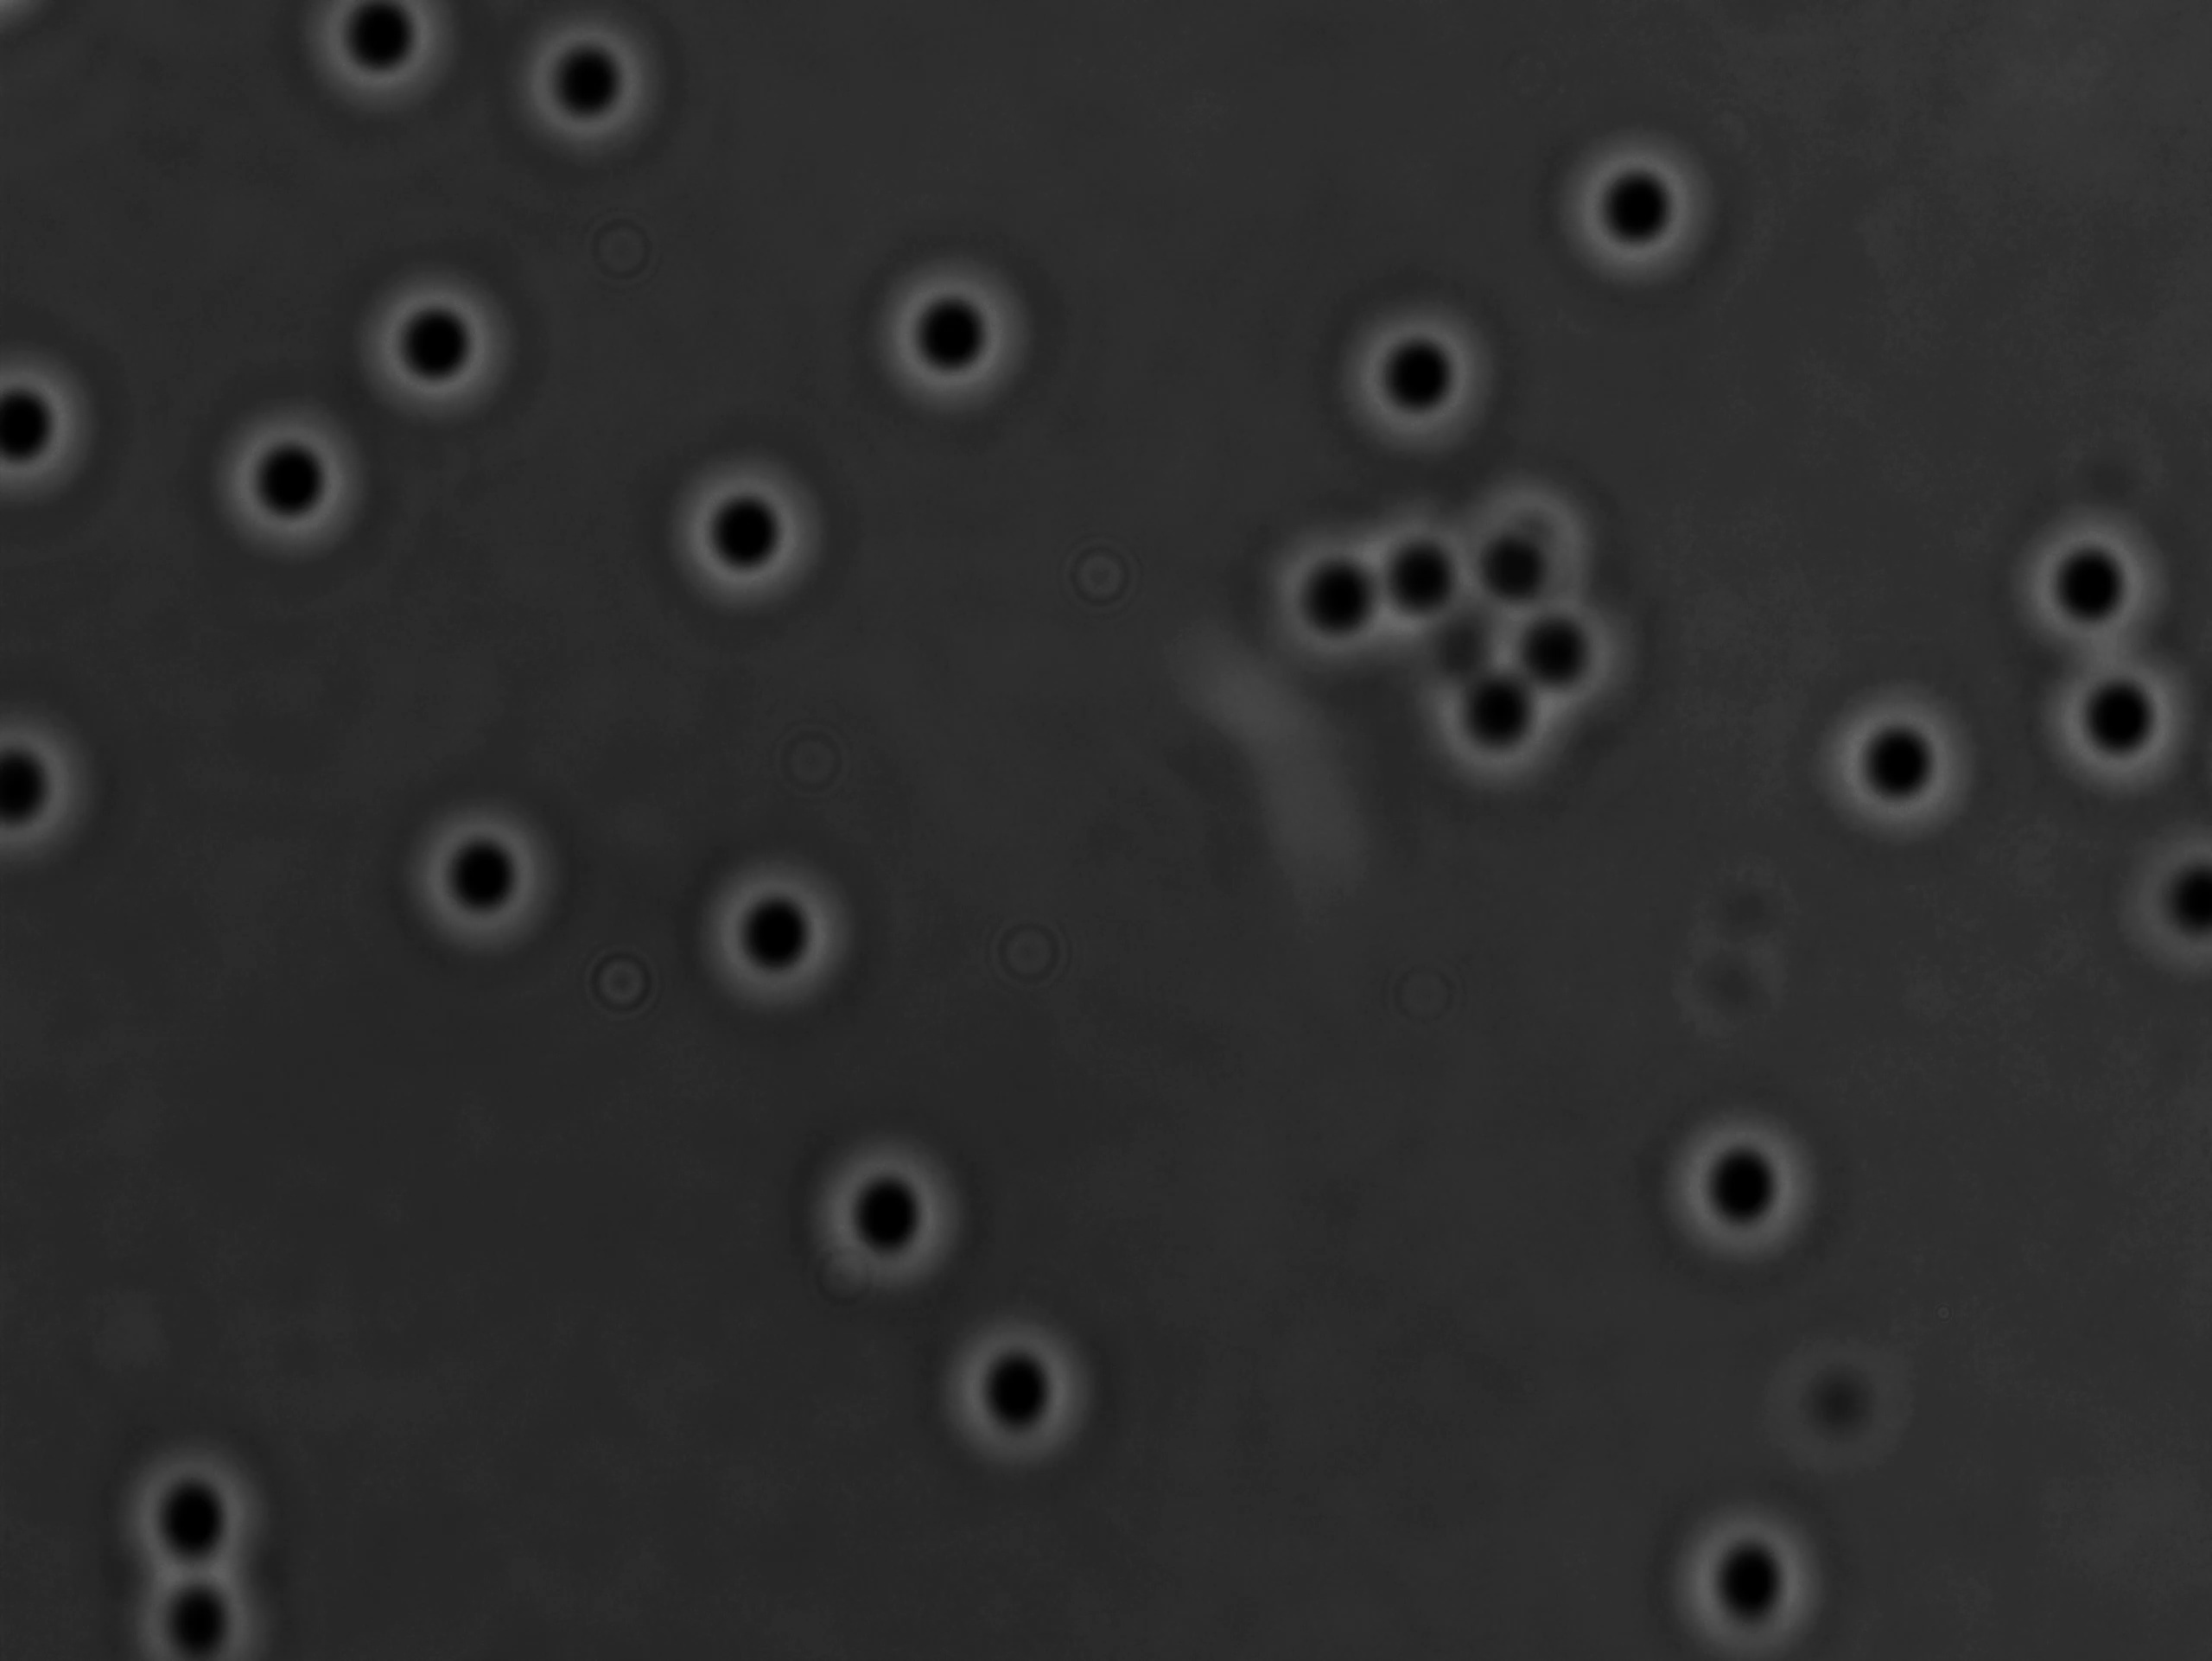depth:-80: (801, 1129, 993, 1314), (867, 253, 1047, 434), (1547, 122, 1732, 298), (1813, 673, 1985, 860), (930, 1296, 1106, 1478), (1647, 1090, 1823, 1272), (1478, 555, 1657, 731), (399, 790, 583, 961), (1329, 298, 1505, 473), (117, 1427, 295, 1595), (206, 405, 387, 569), (1659, 1504, 1847, 1661), (1328, 489, 1500, 660), (1429, 482, 1610, 644), (2015, 508, 2189, 673), (689, 850, 857, 1021), (1403, 639, 1579, 799), (361, 260, 530, 424), (2050, 640, 2212, 806), (1256, 509, 1418, 675), (665, 454, 830, 611)
